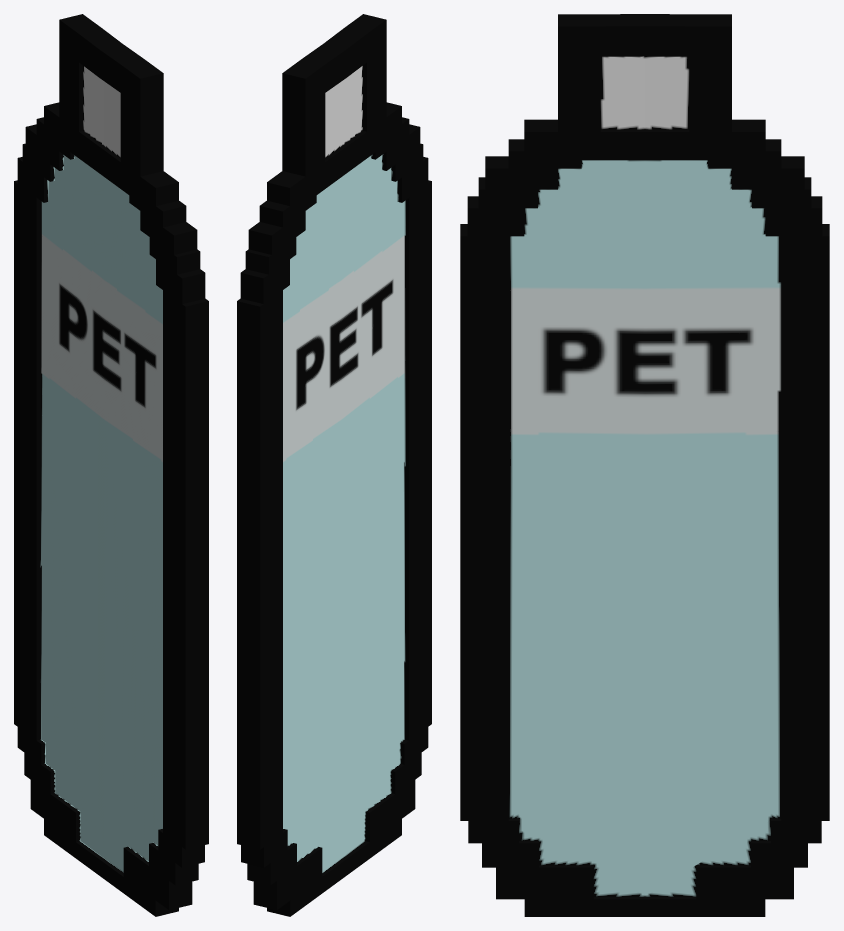
Rendered from ペットボトル.fbx.
3 views of the same model, side by side, from view 1: azimuth 30°, elevation 25°; view 2: azimuth 150°, elevation 25°; view 3: azimuth 270°, elevation 25° (orthographic). The views are drawn at different scales.
Parts seen in each view (by area): view 1: ペットボトル; view 2: ペットボトル; view 3: ペットボトル.
Part boxes in pixels (x1,y1,x2,y2): ペットボトル: (14,14,208,916); ペットボトル: (237,14,431,916); ペットボトル: (460,14,829,916).
Size of the model in its own units: 1.22 by 15.2 by 40.4.
